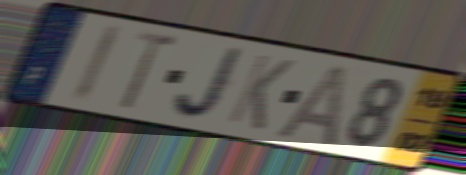8: (347, 75, 404, 148)
A: (269, 61, 353, 150)
I: (68, 21, 125, 105)
J: (172, 45, 249, 122)
K: (224, 51, 298, 134)
T: (117, 28, 182, 113)
